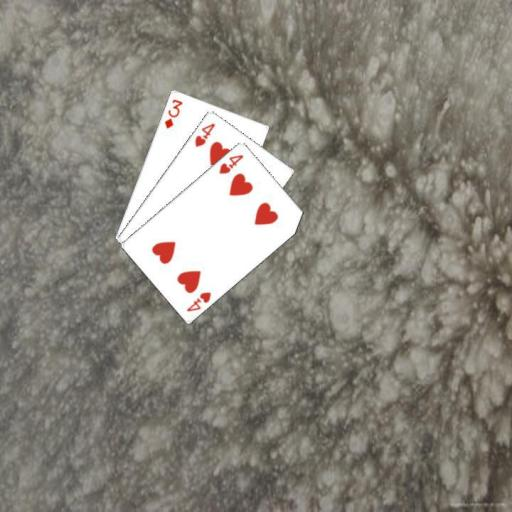3D: (162, 95, 185, 130)
4H: (191, 119, 217, 148), (184, 288, 213, 313), (217, 151, 246, 175)
